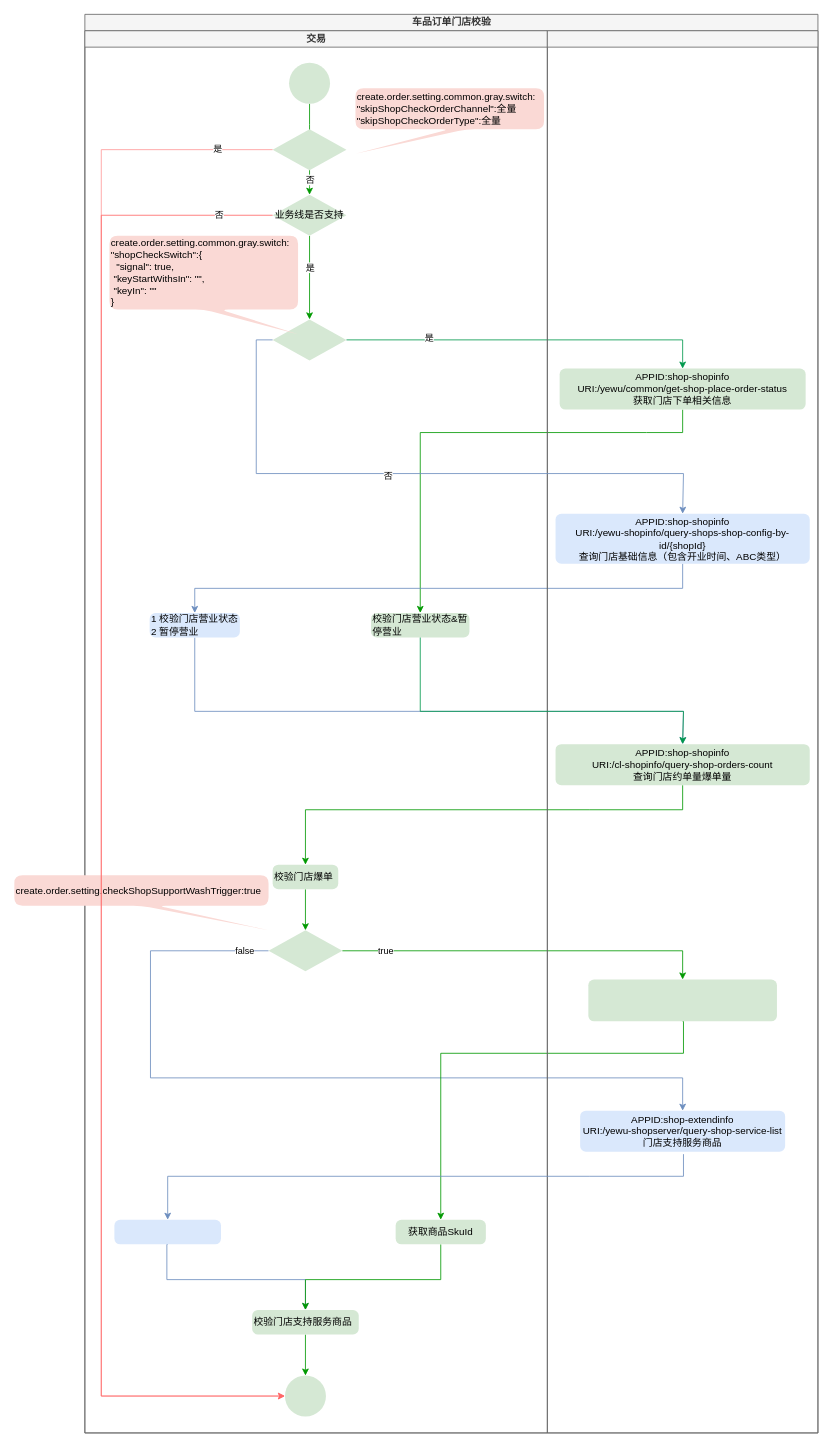
Image size: 832x1447. Some labels were removed from this diagram. The box of each missing label's shape, as (x1, y1, x2, y2) in pixels:
APPID:shop-extendinfo URI:/yewu/shop-service/get-shop-services 门店支持服务商品(包含洗美): (588, 979, 777, 1021)
开始: (289, 62, 330, 103)
是否虚拟门店: (272, 129, 346, 170)
结束: (285, 1375, 326, 1416)
获取FU,BU,XU 商品集合: (114, 1219, 221, 1244)
门店: (547, 30, 818, 1433)
门店服务 校验开关: (268, 930, 342, 971)
门店检查开关: (272, 319, 346, 360)
